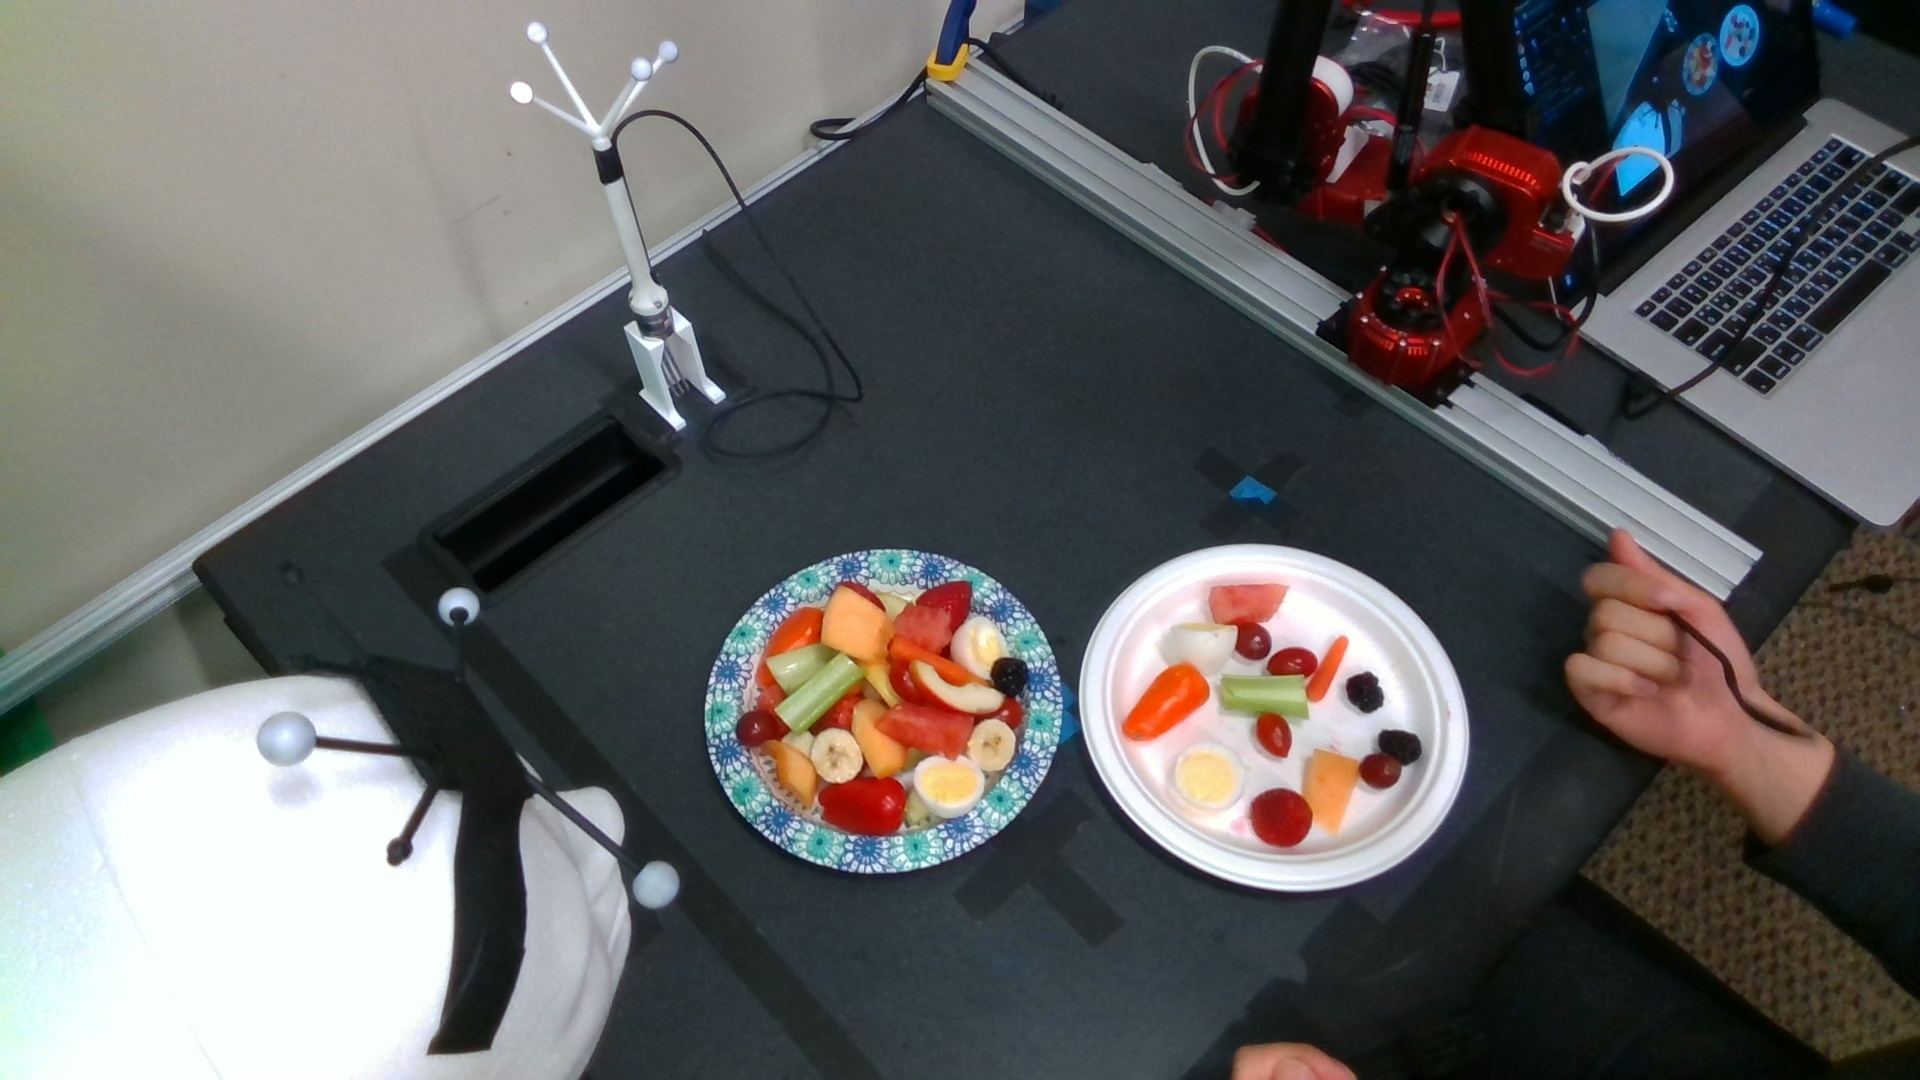apple: (910, 658, 1001, 713)
banana: (812, 728, 861, 782), (967, 717, 1015, 770)
bell pepper: (1121, 663, 1211, 742), (818, 775, 906, 833), (765, 607, 819, 650)
blackberry: (1345, 673, 1385, 713), (992, 658, 1029, 698), (1379, 729, 1422, 764)
cantalope: (822, 587, 893, 659), (1303, 750, 1360, 837), (764, 741, 816, 807)
carrot: (1309, 636, 1350, 702)
celery: (773, 654, 866, 729), (1222, 673, 1311, 717)
cherry tomato: (1257, 711, 1294, 760), (1270, 647, 1317, 676)
egg: (1175, 738, 1245, 810), (915, 752, 985, 819), (953, 615, 1007, 680), (1168, 624, 1236, 676)
grape: (1360, 754, 1400, 789), (737, 712, 779, 744), (1236, 624, 1271, 659)
melon: (876, 703, 971, 758), (1209, 585, 1288, 622), (894, 601, 949, 654)
plate: (1077, 542, 1472, 891), (704, 551, 1062, 869)
strawberry: (1250, 789, 1313, 847), (915, 580, 972, 633)
